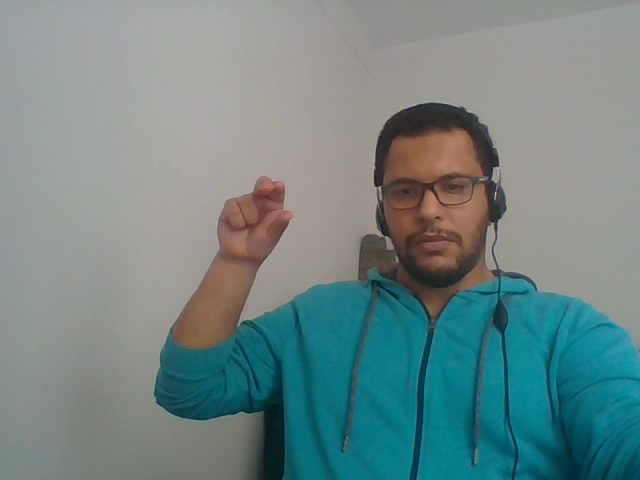no: (178, 148, 330, 288)
